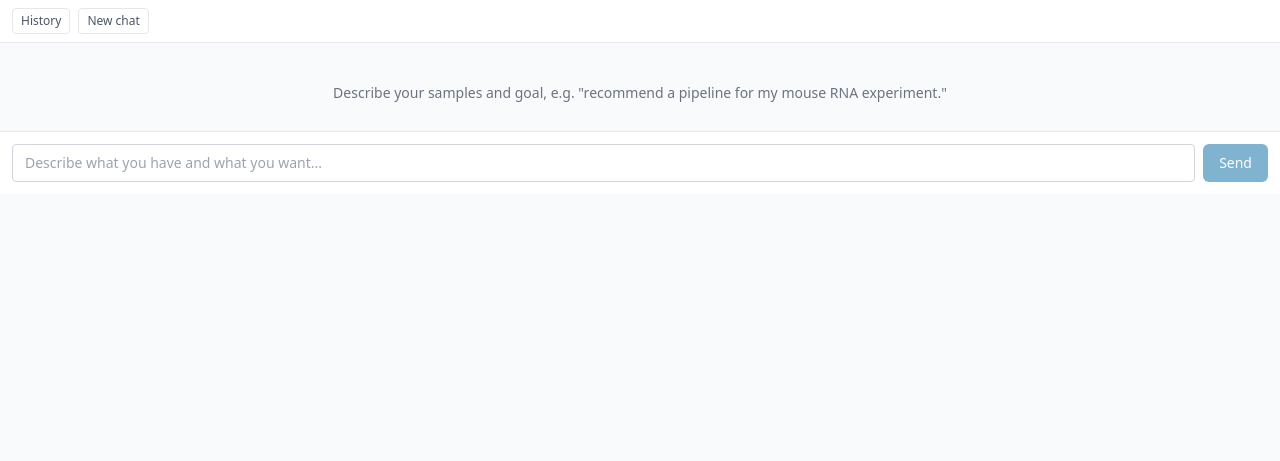
Test case: AssistantChat › links to the experiment it just created so the user isn't left to find it
This screenshot has width=1280, height=461.
Type "start a new mouse gut experiment" into the field named "Message" at (604, 163), box [12,144,1195,182]
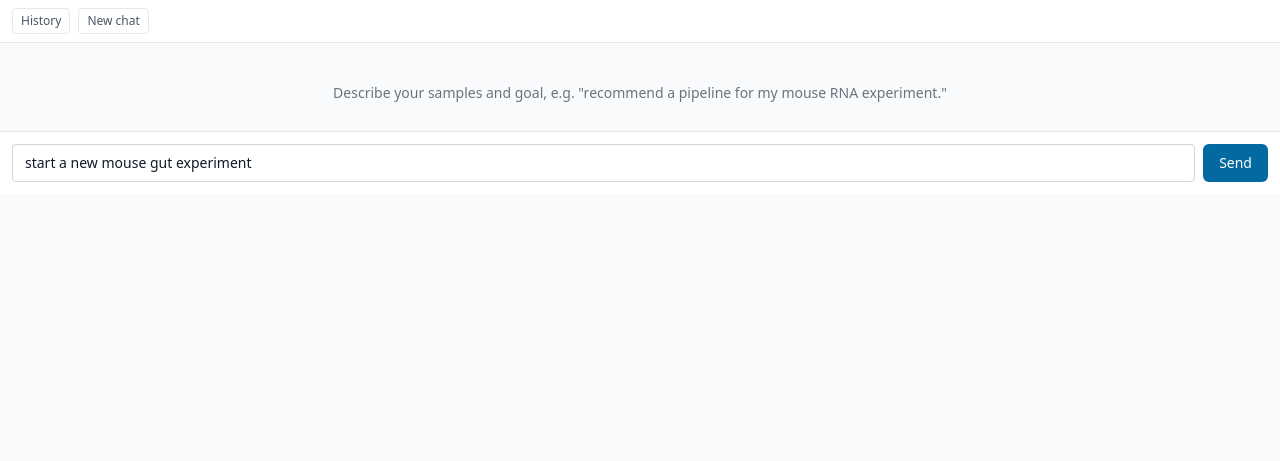
Click the button "Send" at (1236, 163), box [1203,144,1268,182]
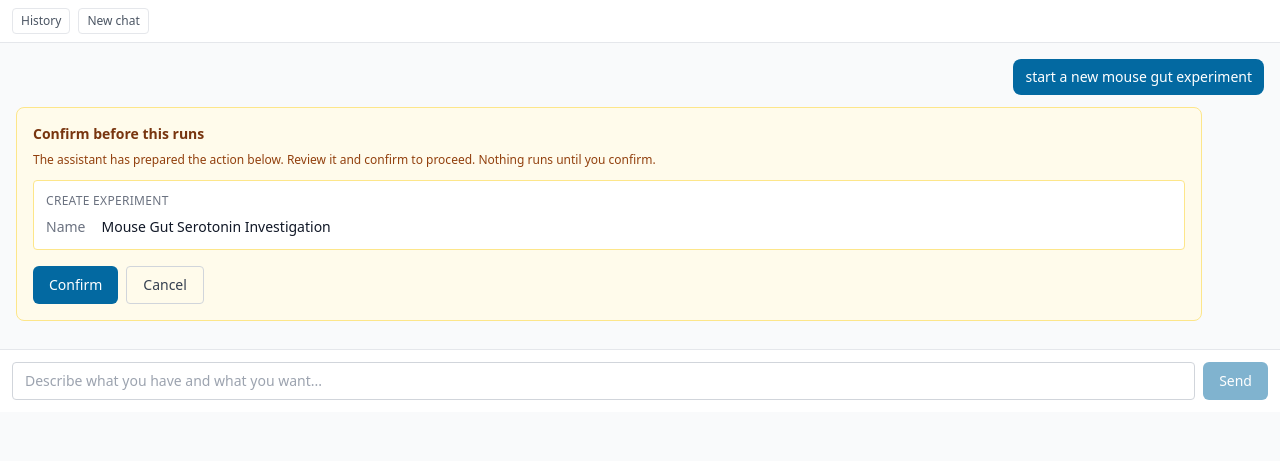
expect the element with test id "plan-confirm-card" is shown: met, box [16,107,1202,321]
Click the button "Confirm" at (76, 285), box [33,266,118,304]
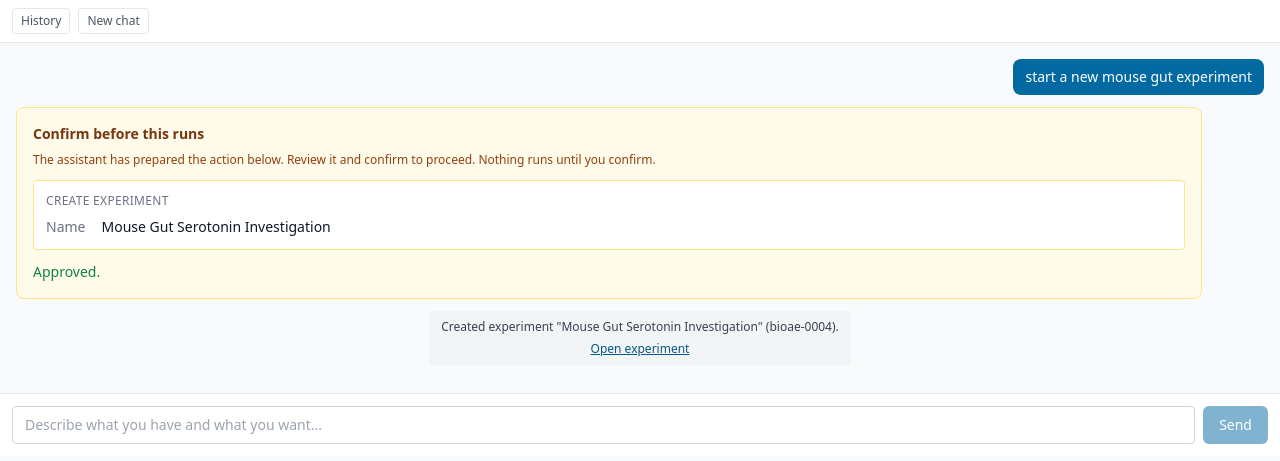
expect the text "Created experiment \"Mouse Gut Serotonin Investigation\"" is shown: met, box [441,318,839,335]
